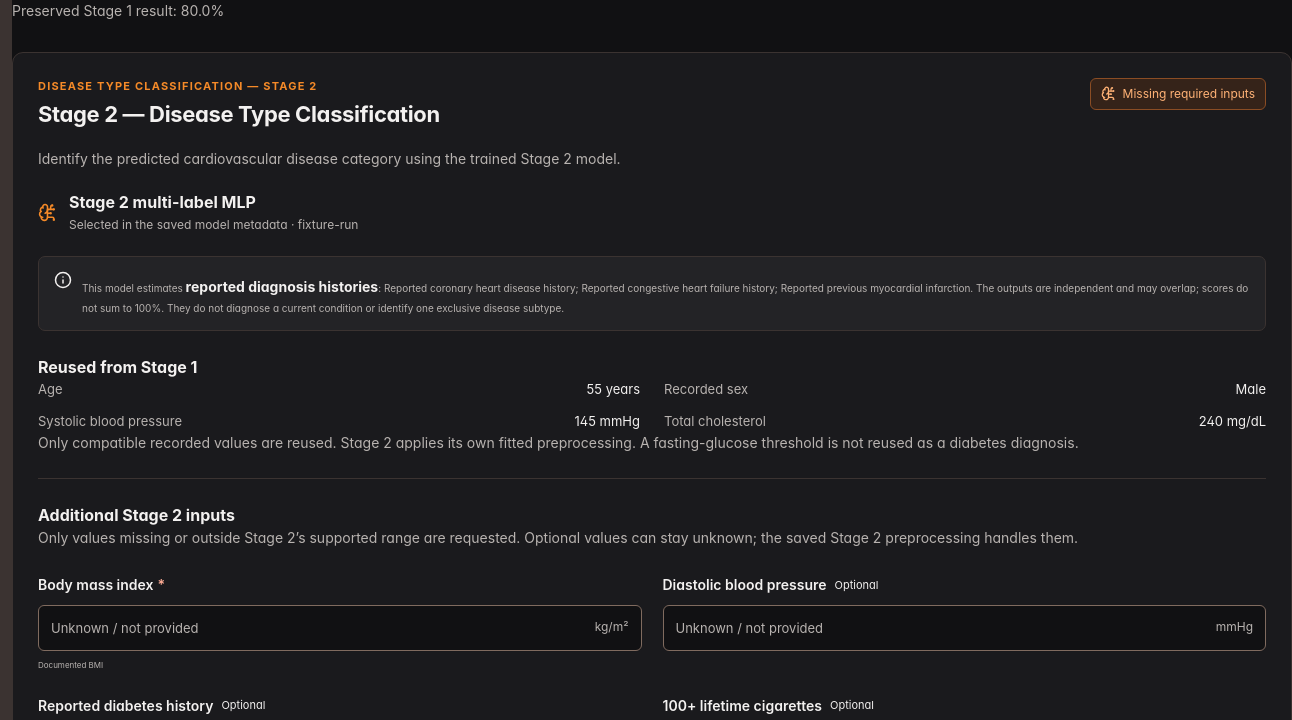
Test: Stage 2 extension › supports a required field declared by the supplied schema
This screenshot has width=1292, height=720.
Check: the text "Missing required inputs" is shown, box left=1090, top=78, right=1266, bottom=110
Type "26" into the number field labelled "Body mass index *" at [340, 628], box left=38, top=605, right=642, bottom=651
(page scrolled)
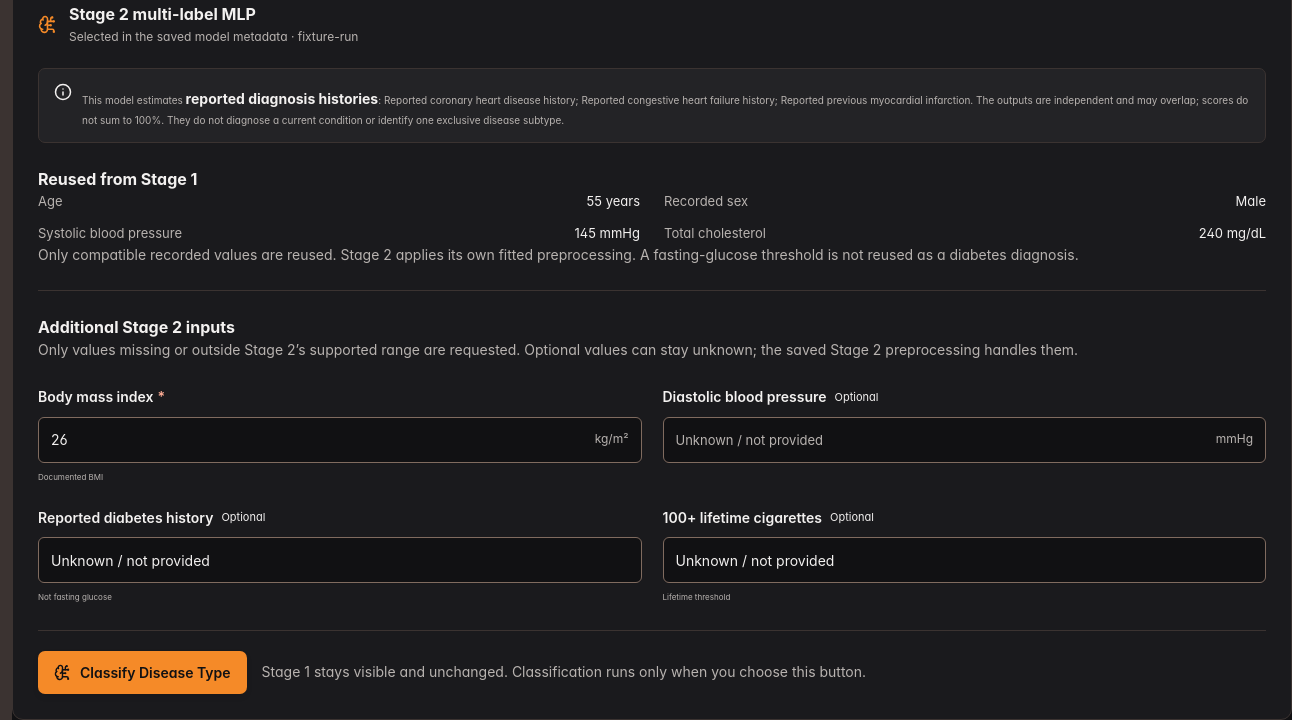
Check: the button "Classify Disease Type" is enabled, box left=38, top=651, right=247, bottom=694
